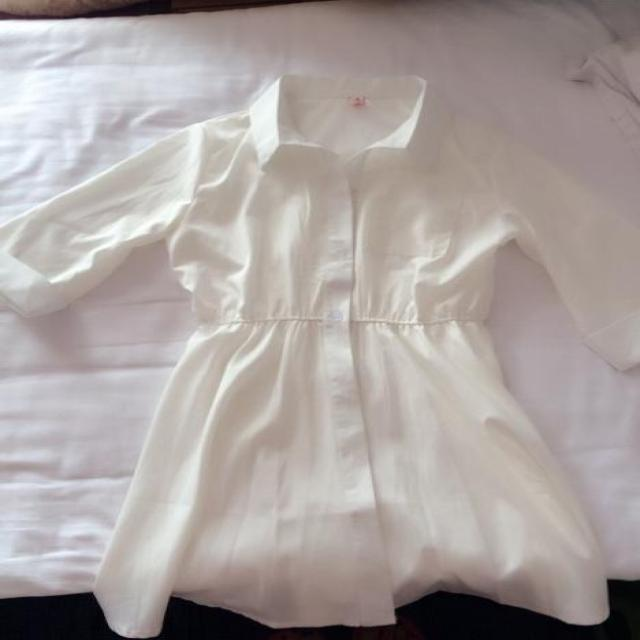short-sleeve-dress: (33, 58, 640, 619)
